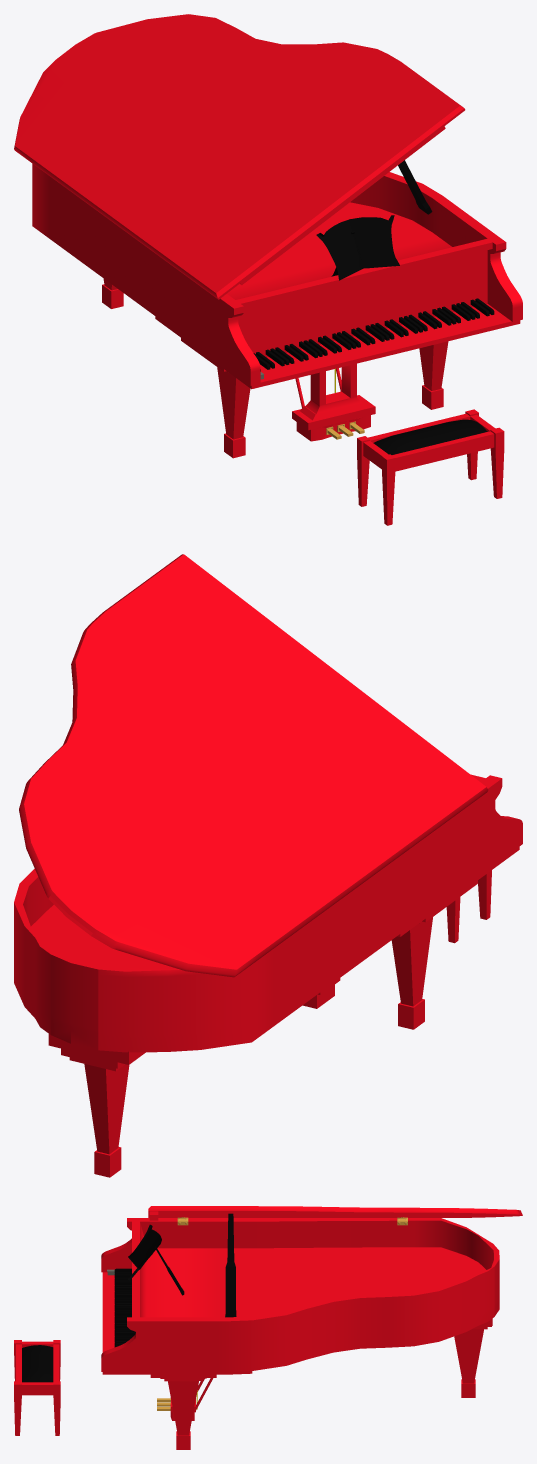
File: czerwony-polysk.glb
3 views of the same model, one above another, from view 1: azimuth 30°, elevation 25°; view 2: azimuth 150°, elevation 25°; view 3: azimuth 270°, elevation 25° (orthographic). The views are drawn at different scales.
Parts seen in each view (by area): view 1: Plane.002, Plane, Plane.004, Cube, Plane.006, Plane.005; view 2: Plane.002, Plane, Plane.004; view 3: Plane, Plane.002, Plane.004, Cube, Plane.005, Cube.001, Plane.006.
Boxes of the visible parts, bbox=[...] form: Plane.002: bbox=[14, 14, 465, 299]; Plane: bbox=[32, 163, 522, 458]; Plane.004: bbox=[357, 409, 504, 525]; Cube: bbox=[253, 298, 494, 371]; Plane.006: bbox=[316, 215, 399, 280]; Plane.005: bbox=[373, 419, 487, 454]; Plane.002: bbox=[19, 554, 488, 977]; Plane: bbox=[14, 774, 522, 1177]; Plane.004: bbox=[446, 870, 491, 943]; Plane: bbox=[101, 1218, 499, 1449]; Plane.002: bbox=[148, 1206, 522, 1220]; Plane.004: bbox=[14, 1340, 60, 1435]; Cube: bbox=[114, 1268, 135, 1347]; Plane.005: bbox=[22, 1345, 53, 1382]; Cube.001: bbox=[225, 1213, 236, 1317]; Plane.006: bbox=[128, 1224, 161, 1280].
Bounding box in the file's own units: 5.75 × 6.34 × 11.85.
